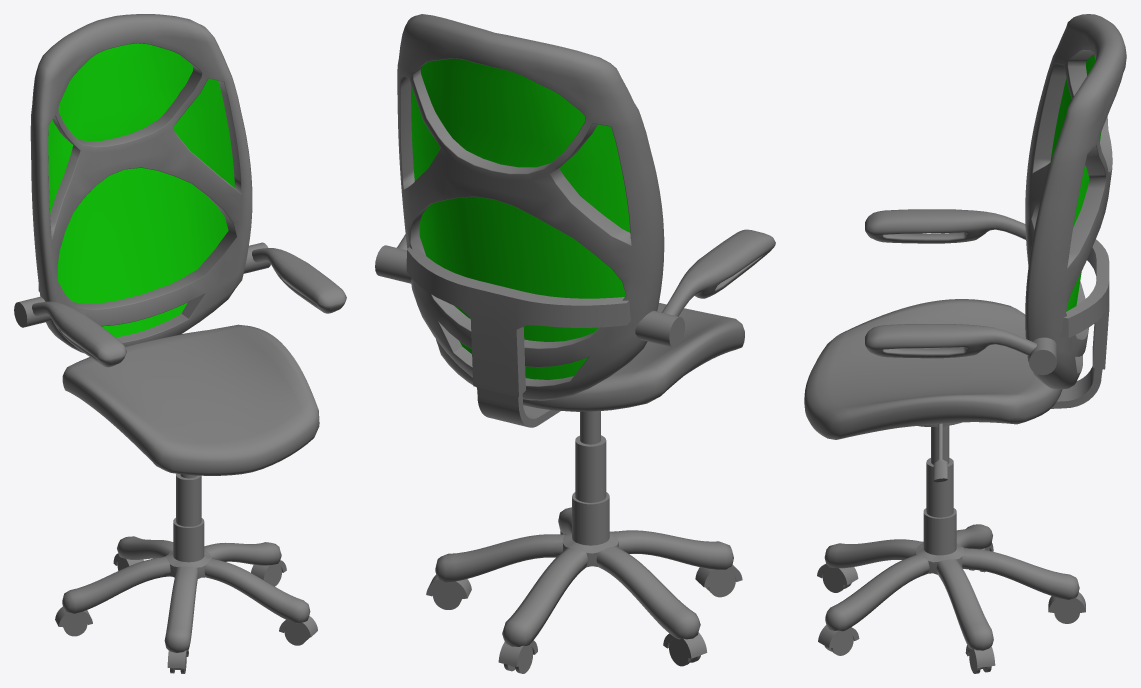
Rendered from chair.fbx.
The picture shows the model from 3 angles, left to right: view 1: azimuth 30°, elevation 25°; view 2: azimuth 150°, elevation 25°; view 3: azimuth 270°, elevation 25°; orthographic projection. The views are drawn at different scales.
Visible parts, largest first — view 1: Chair_LOD0; view 2: Chair_LOD0; view 3: Chair_LOD0.
Part boxes in pixels (box(x1,y1,x2,y2)): Chair_LOD0: box(14, 14, 346, 673); Chair_LOD0: box(375, 14, 775, 673); Chair_LOD0: box(804, 14, 1126, 673).
Size of the model in its own units: 0.6559 by 0.6881 by 1.37.
